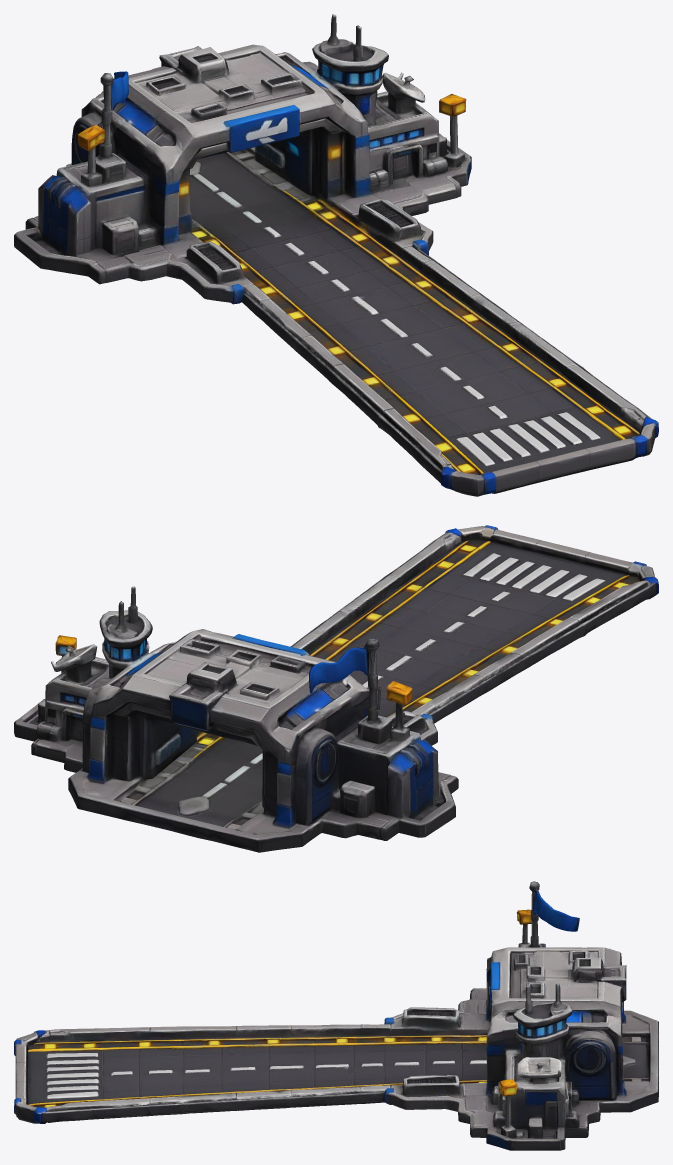
Rendered from b_air.glb.
3 renders of one model, top to bottom at view 1: azimuth 30°, elevation 25°; view 2: azimuth 150°, elevation 25°; view 3: azimuth 270°, elevation 25°, orthographic. The views are drawn at different scales.
Visible parts, largest first — view 1: tripo_node_d0936dd3-b438-4339-a4fd-102d66e8e835; view 2: tripo_node_d0936dd3-b438-4339-a4fd-102d66e8e835; view 3: tripo_node_d0936dd3-b438-4339-a4fd-102d66e8e835.
Part boxes in pixels (x1,y1,x2,y2): tripo_node_d0936dd3-b438-4339-a4fd-102d66e8e835: (14,14,658,496); tripo_node_d0936dd3-b438-4339-a4fd-102d66e8e835: (14,525,658,852); tripo_node_d0936dd3-b438-4339-a4fd-102d66e8e835: (14,881,658,1150).
Bounding box in the file's own units: 0.6028 × 0.2656 × 1.
1 material, 1 textured.
